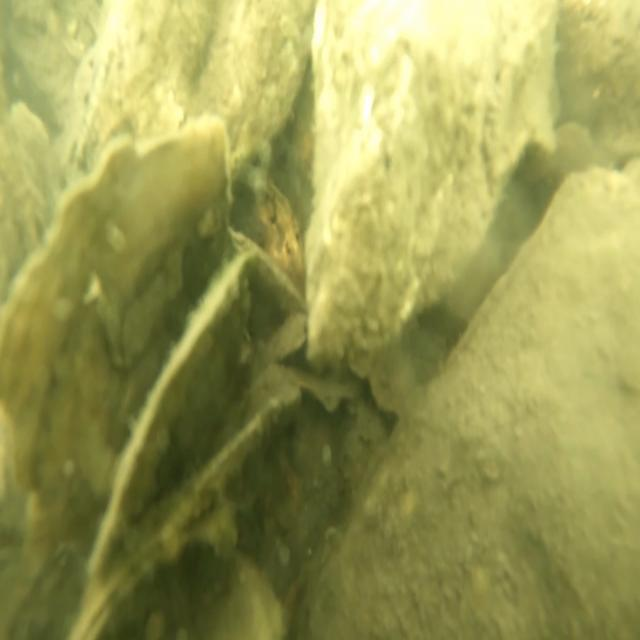Oyster-Closed: (295, 155, 640, 640), (305, 0, 559, 369)
Oyster-Indeterminate: (4, 111, 230, 584), (70, 522, 286, 640)
Oyster-Open: (91, 251, 301, 617), (225, 151, 308, 321)
